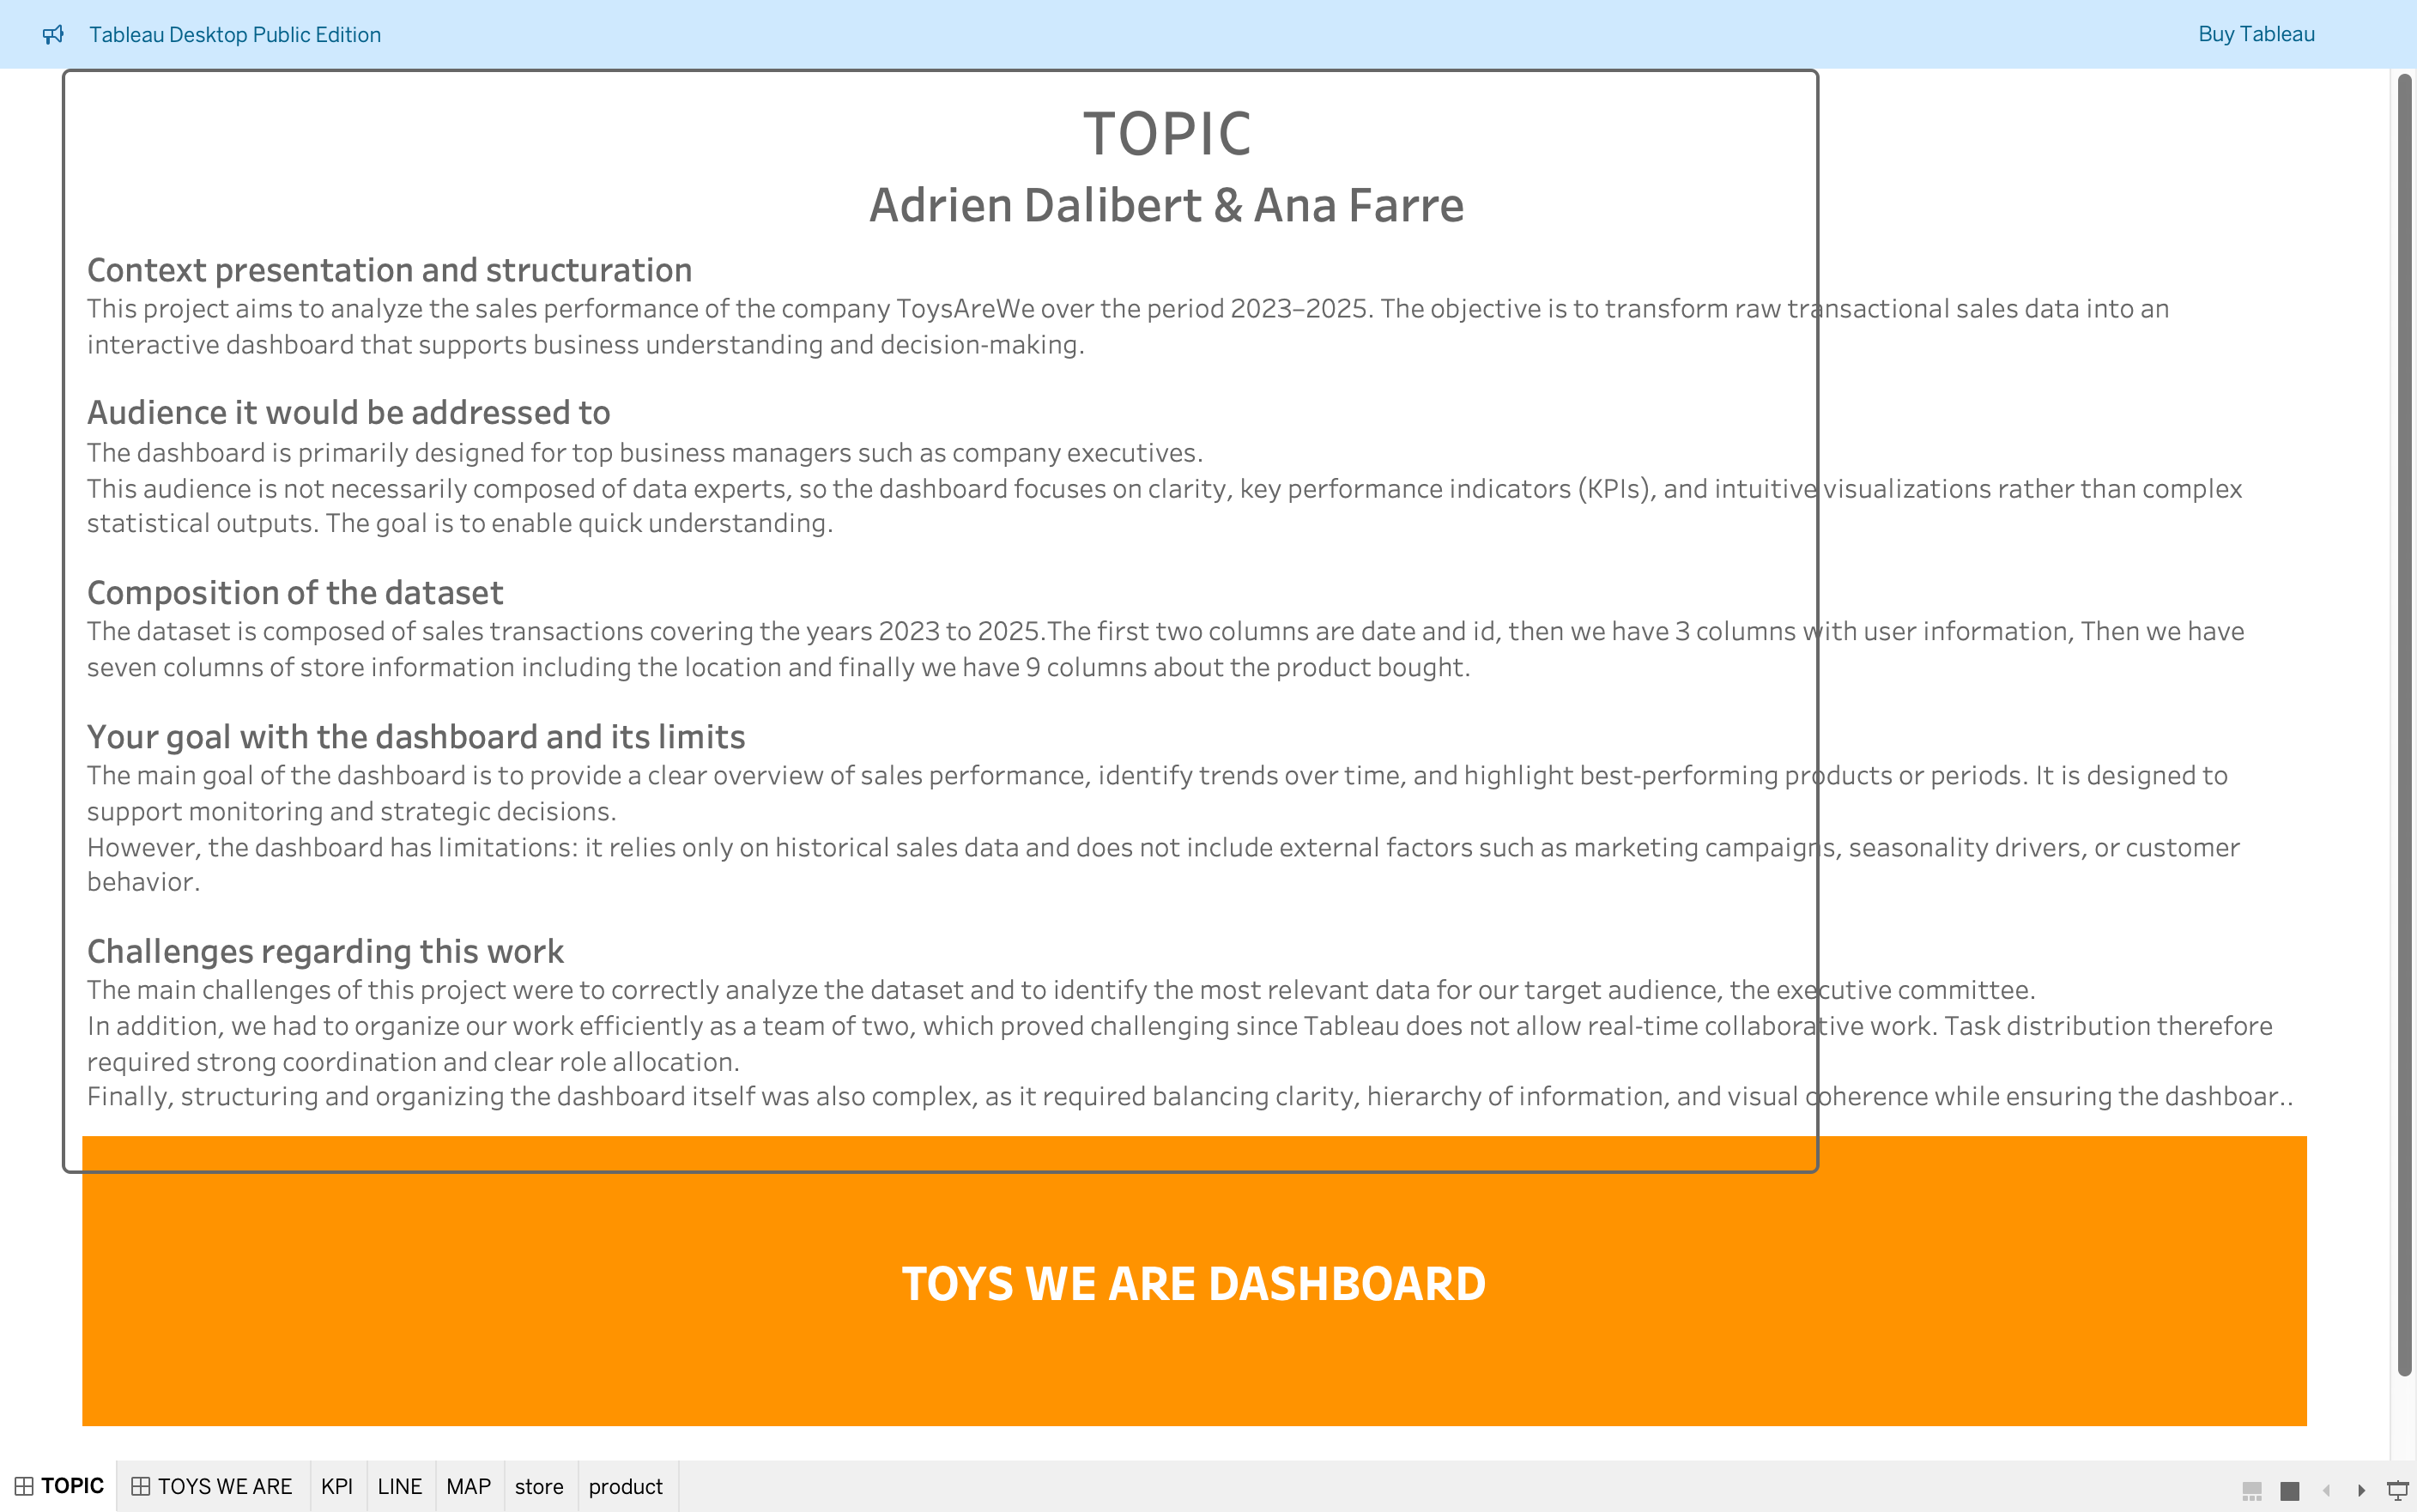

The page's visual inventory and layout, read from the dashboard file:
{"tool":"tableau","page":{"name":"TOPIC","canvas":[1000,1000],"units":"permille","ordinal":0},"visuals":[{"type":"text","box":[6.1,9.3,963.6,108.1]},{"type":"text","box":[6.1,117.4,987.9,601.2]},{"type":"dashboard-object","box":[6.1,718.6,987.9,205.8]}]}

Visuals, with their boxes on the dashboard's canvas, which has no fixed pixel size, in thousandths of its width and height (x1, y1, x2, y2). These are canvas units, not pixel positions in the 2417x1512 screenshot, which may show the page scaled, cropped or inside an application window:
text: [left=6, top=9, right=970, bottom=117]
text: [left=6, top=117, right=994, bottom=719]
dashboard-object: [left=6, top=719, right=994, bottom=924]
